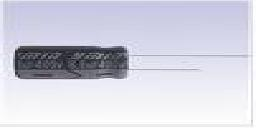Electrolytic-Capacitor: (11, 42, 251, 83)
